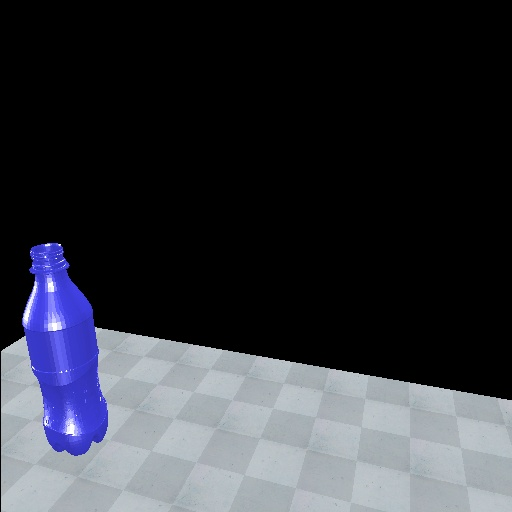bottle: (17, 240, 112, 456)
